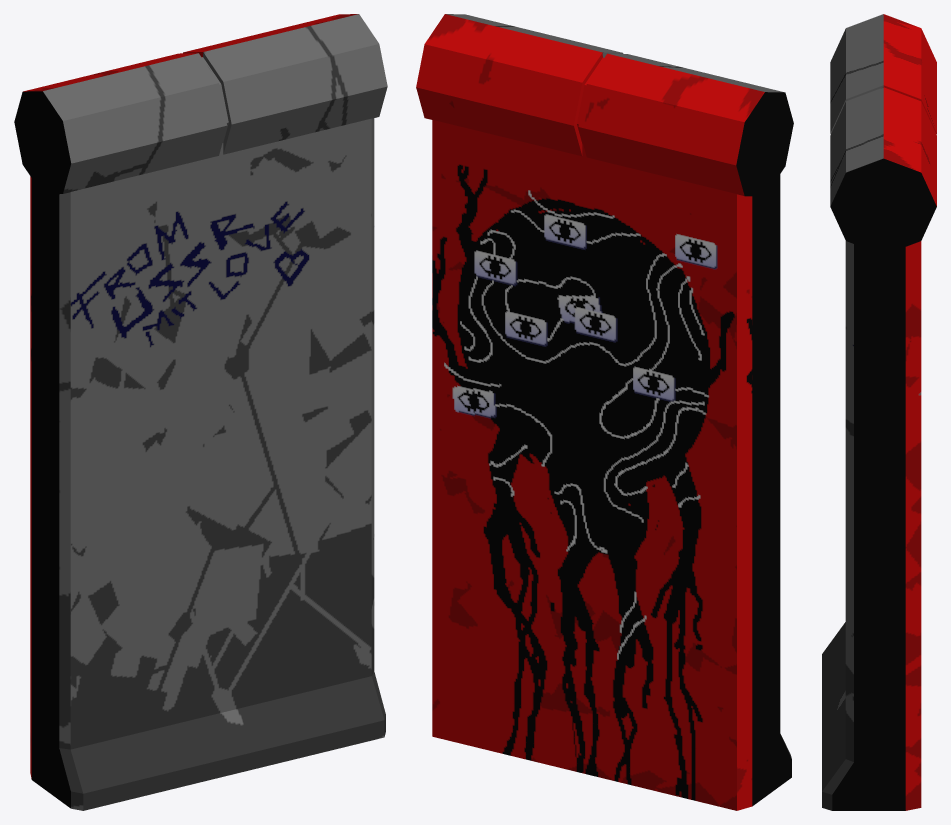
File: m_wall001.fbx
3 renders of one model, left to right at view 1: azimuth 30°, elevation 25°; view 2: azimuth 150°, elevation 25°; view 3: azimuth 270°, elevation 25°, orthographic. The views are drawn at different scales.
Visible parts, largest first — view 1: m_wall000; view 2: m_wall000; view 3: m_wall000.
Part boxes in pixels (box(x1,y1,x2,y2)): m_wall000: box(14, 14, 387, 810); m_wall000: box(416, 14, 793, 810); m_wall000: box(822, 14, 936, 810).
Size of the model in its own units: 181 by 381 by 60.76.
Materials: 1 (1 with a texture image).
